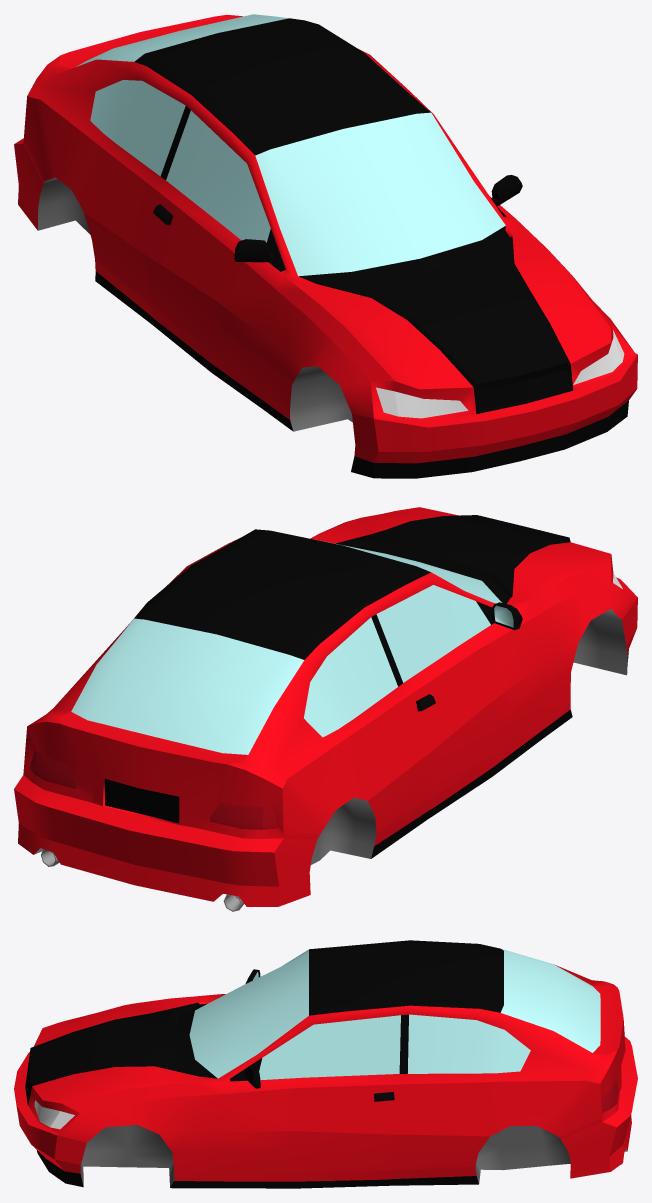
3 renders of one model, top to bottom at view 1: azimuth 30°, elevation 25°; view 2: azimuth 150°, elevation 25°; view 3: azimuth 270°, elevation 25°, orthographic. The views are drawn at different scales.
Visible parts, largest first — view 1: Body; view 2: Body; view 3: Body.
Part boxes in pixels (<box>): Body: <box>14,14,637,478</box>; Body: <box>14,507,637,911</box>; Body: <box>14,940,637,1188</box>.
Size of the model in its own units: 1.61 by 1.16 by 3.95.
